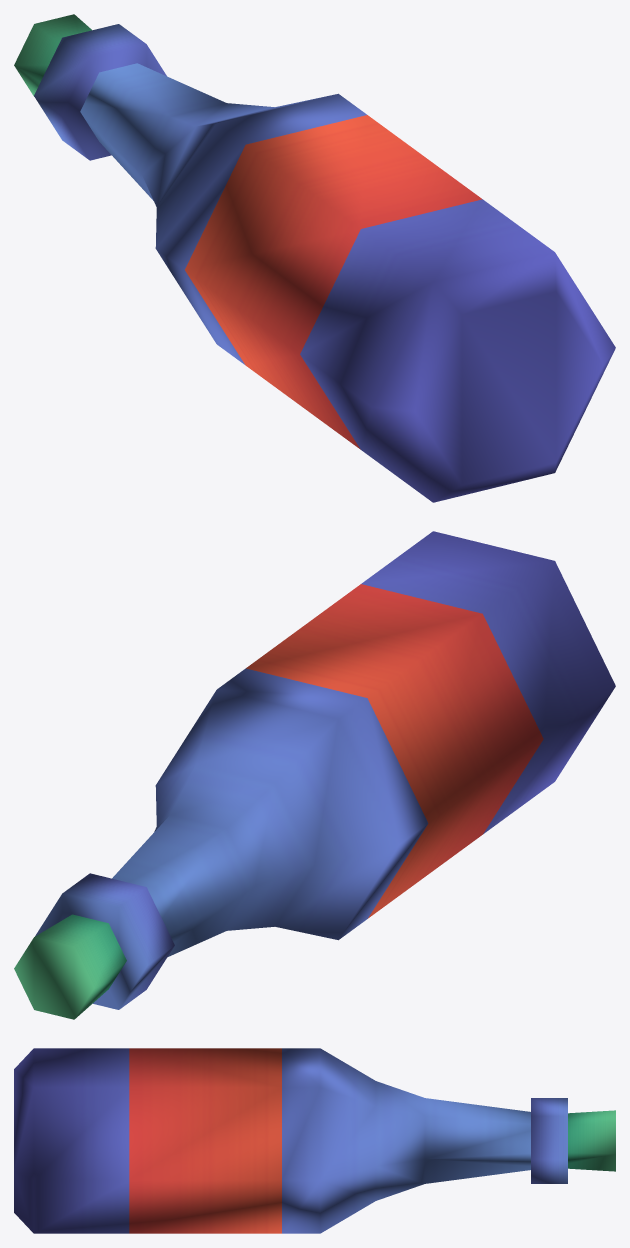
The model's file is wine-white.obj.
3 views of the same model, one above another, from view 1: azimuth 30°, elevation 25°; view 2: azimuth 150°, elevation 25°; view 3: azimuth 270°, elevation 25° (orthographic). The views are drawn at different scales.
Visible parts, largest first — view 1: wine-white.001; view 2: wine-white.001; view 3: wine-white.001.
Boxes of the visible parts, <box> form: wine-white.001: <box>14,14,615,502</box>; wine-white.001: <box>14,531,615,1019</box>; wine-white.001: <box>14,1048,615,1233</box>.
Size of the model in its own units: 0.2028 by 0.1756 by 0.6556.
